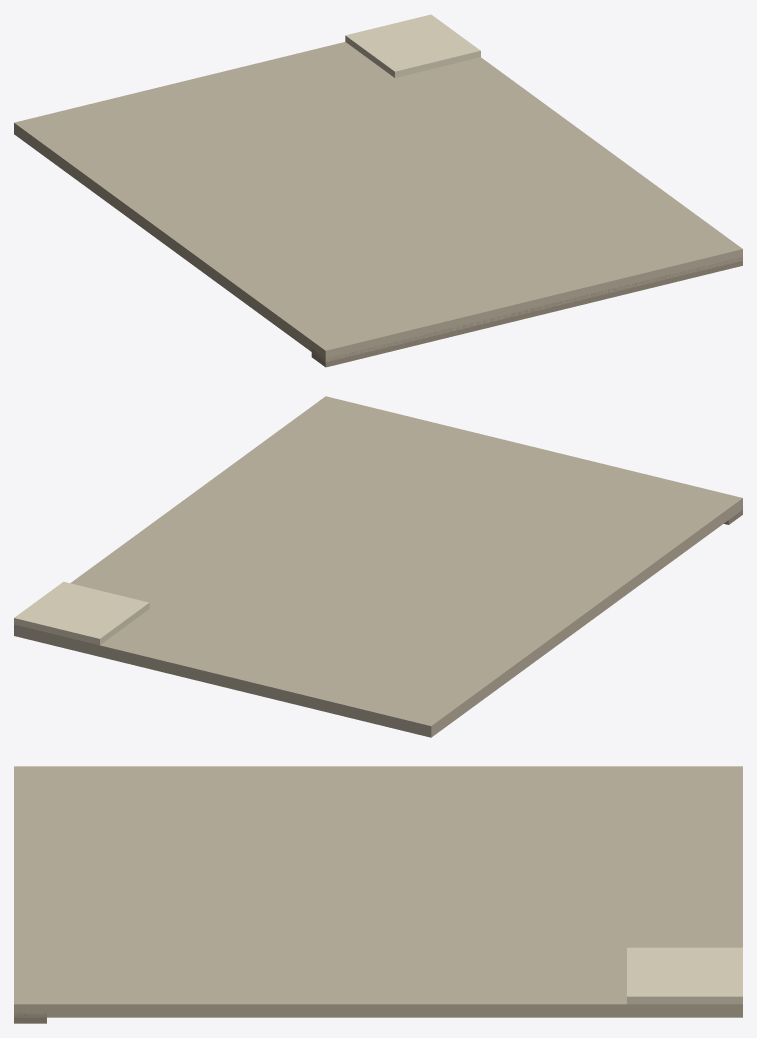
File: CMU3DPaperSheet.glb
3 views of the same model, one above another, from view 1: azimuth 30°, elevation 25°; view 2: azimuth 150°, elevation 25°; view 3: azimuth 270°, elevation 25° (orthographic). The views are drawn at different scales.
Visible parts, largest first — view 1: paper sheet, folded top corner, bottom paper edge; view 2: paper sheet, folded top corner; view 3: paper sheet, folded top corner.
Boxes of the visible parts, x1,y1,x2,y2 form: paper sheet: [14, 42, 742, 362]; folded top corner: [345, 14, 480, 77]; bottom paper edge: [311, 257, 742, 367]; paper sheet: [14, 396, 742, 737]; folded top corner: [14, 581, 149, 645]; paper sheet: [14, 766, 742, 1017]; folded top corner: [627, 947, 742, 1004].
Size of the model in its own units: 0.34 by 0.018 by 0.44.
